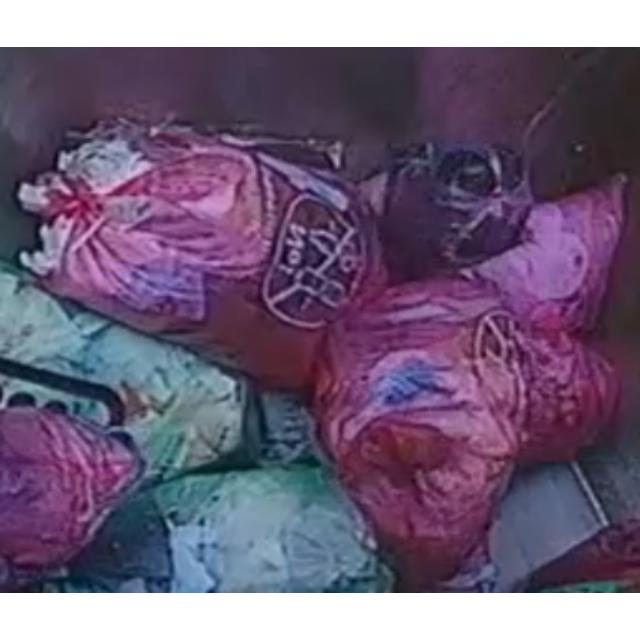general_trashbag: (0, 262, 245, 478), (40, 455, 392, 593)
other_trashbag: (314, 191, 622, 590), (19, 119, 376, 389), (0, 408, 144, 586)
